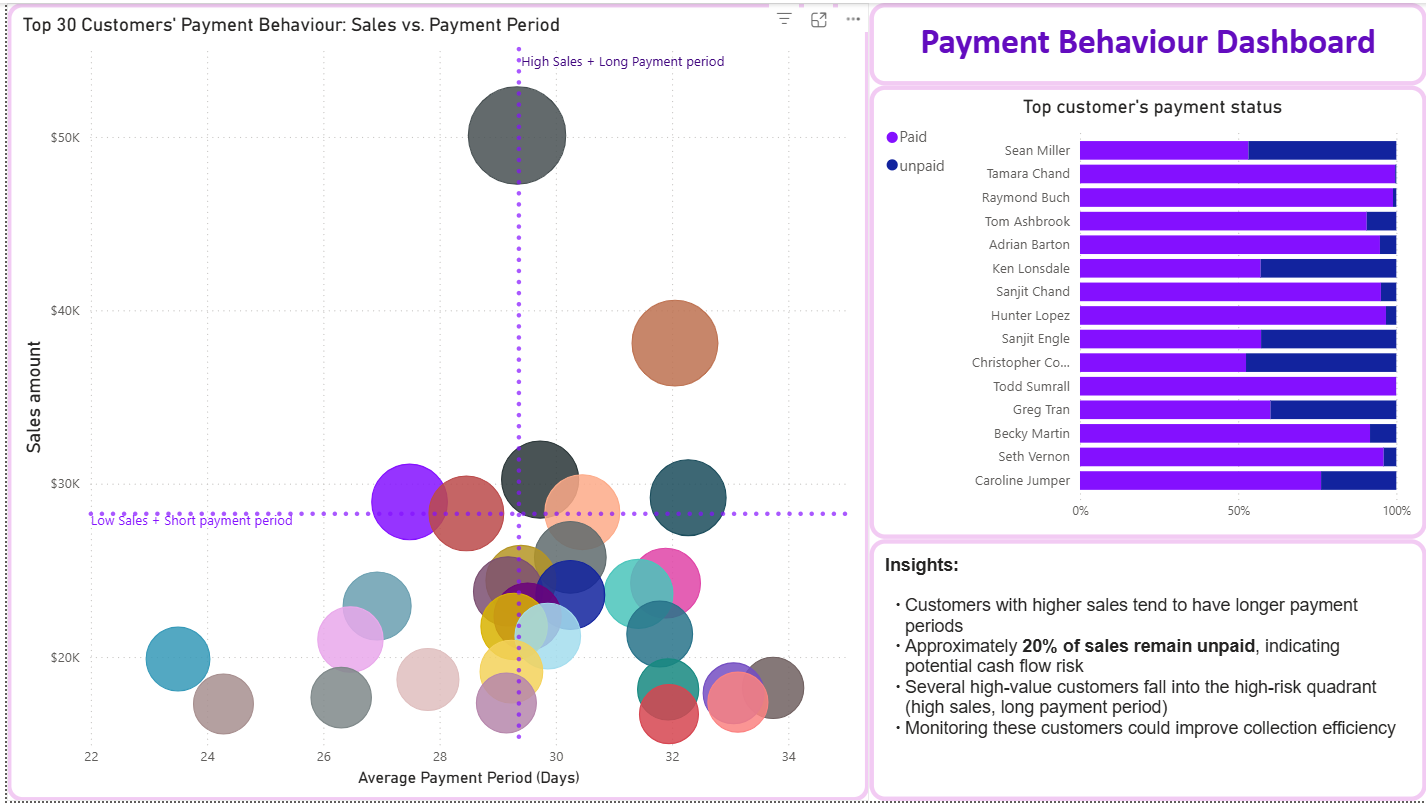

The page's visual inventory and layout, read from the dashboard file:
{"tool":"powerbi","page":{"name":"Payment Behaviour","canvas":[1280,720],"ordinal":1},"visuals":[{"type":"scatterChart","title":"Top 30 Customers'' Payment Behaviour: Sales vs. Payment Period","fields":{"X":["train.Payment_period"],"Size":["Sum(train.Sales)"],"Y":["Sum(train.Sales)"],"Series":["train.Customer_Name"]},"box":[0,0,777.5,720.3],"z":0},{"type":"textbox","box":[778,0,502.2,74.1],"z":2000},{"type":"hundredPercentStackedBarChart","title":"Top customer''s payment status","fields":{"Category":["train.Customer_Name"],"Y":["Sum(train.Sales)"],"Series":["train.payment_status"]},"box":[778,74.1,502.2,408.9],"z":3000},{"type":"textbox","box":[777.5,483.9,502.6,236.4],"z":3001}]}

Visuals, with their boxes in screenshot pixels (x1, y1, x2, y2), scaled from the page's 1280x720 canvas onto the 1426x805 screenshot:
"Top 30 Customers'' Payment Behaviour: Sales vs. Payment Period" scatterChart: x1=0, y1=0, x2=866, y2=804
textbox: x1=867, y1=0, x2=1425, y2=83
"Top customer''s payment status" hundredPercentStackedBarChart: x1=867, y1=83, x2=1425, y2=540
textbox: x1=866, y1=541, x2=1425, y2=804
